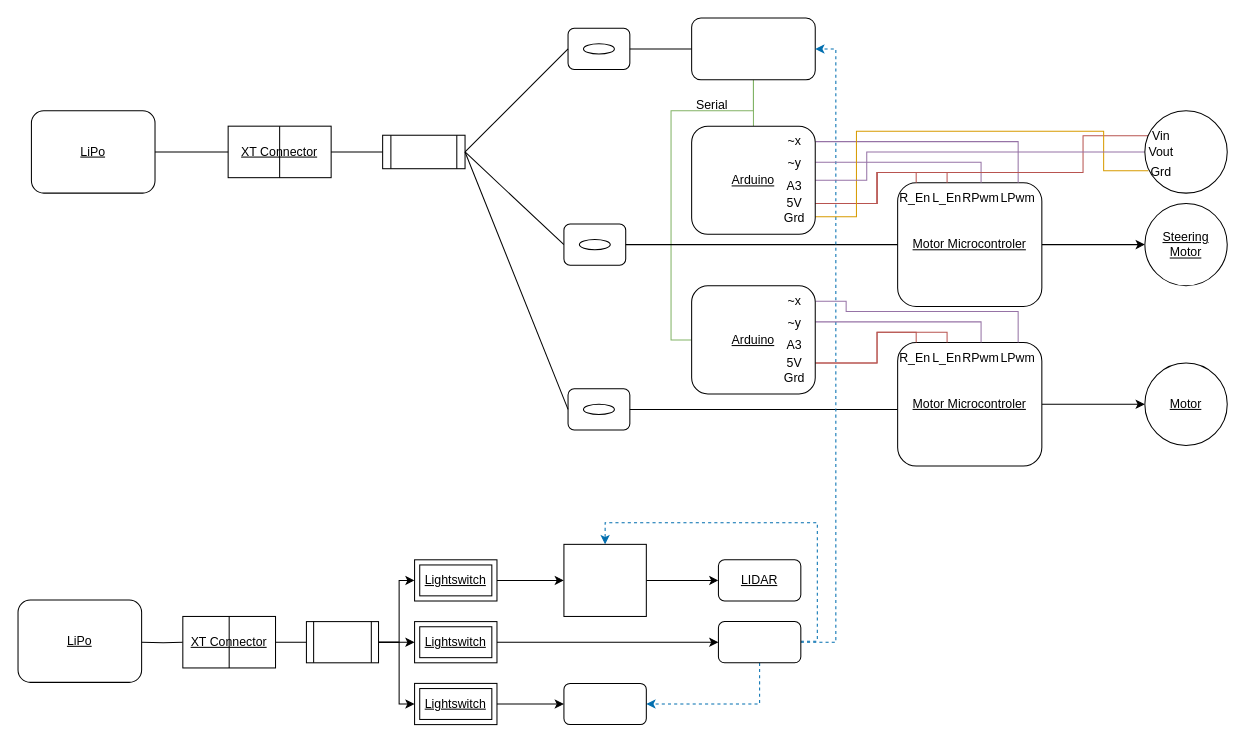
Some shapes in this 1245 by 743 pixel diagram are drawn without their labels. Each missing label, with the box of its shape:
10 A Fuse: (382, 134, 465, 169)
10A Fuse: (305, 621, 379, 663)
AGX: (563, 682, 646, 725)
Control Box: (563, 543, 646, 616)
Ethernet Switch: (717, 621, 801, 663)
Jetson Nano (Acts as translation layer from AGX): (691, 17, 815, 80)
Pot: (1144, 110, 1227, 193)
